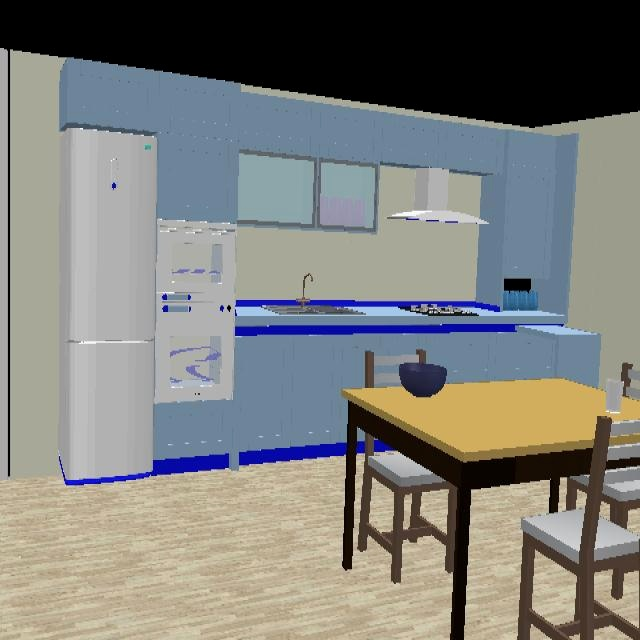cabinet: (77, 59, 580, 315), (154, 305, 602, 465), (59, 127, 158, 487)
chair: (517, 416, 640, 640), (359, 433, 458, 584), (365, 349, 427, 388)
countertop: (237, 300, 569, 337)
fridge: (59, 127, 158, 487)
microwave: (157, 220, 235, 303)
oven: (155, 293, 234, 404)
sink: (262, 305, 362, 317)
stove: (396, 303, 477, 316)
table: (341, 379, 640, 640)
